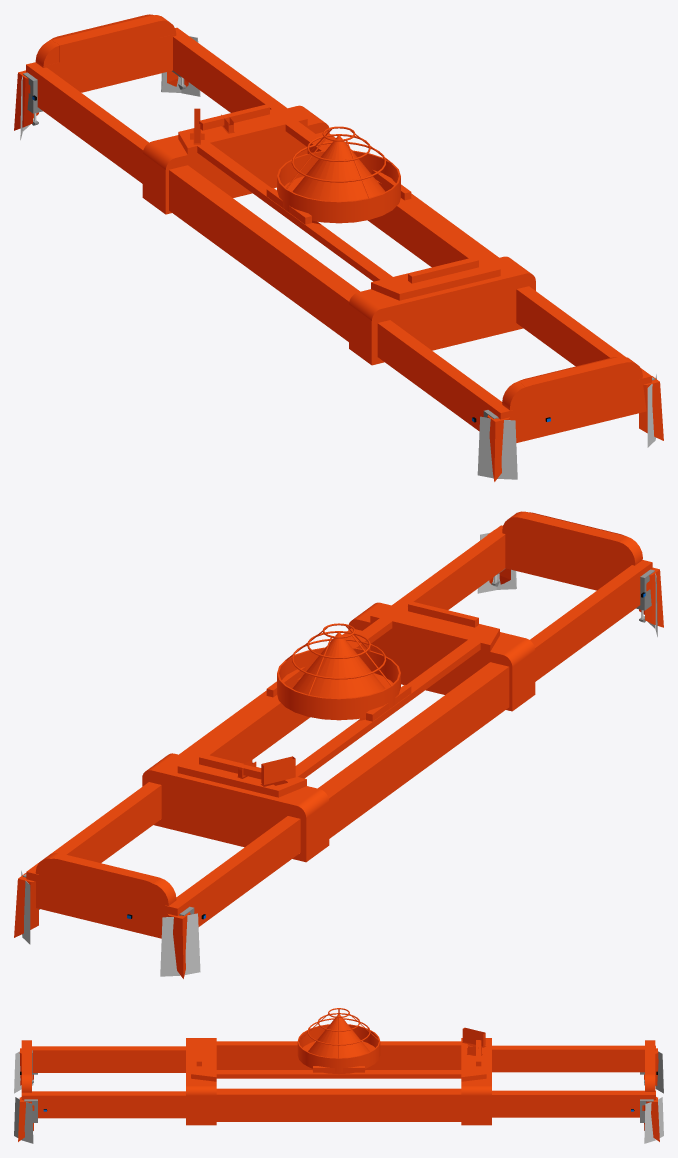
File: Spreader.fbx
3 views of the same model, one above another, from view 1: azimuth 30°, elevation 25°; view 2: azimuth 150°, elevation 25°; view 3: azimuth 270°, elevation 25° (orthographic). The views are drawn at different scales.
Visible parts, largest first — view 1: Spreader_Body, Assembly_1, Assembly_2, Assembly_1314_1, Assembly_4156, Assembly_4156__1__1, Cube, FlipperL1, Left_Micro, Assembly_4156__1_, FlipperR1, Cube__2_ (+2 smaller); view 2: Spreader_Body, Assembly_2, Assembly_1, Assembly_1314_1, FlipperR2, Cube__1__1, Assembly_4156__1_, Cube_1, Left_Micro, FlipperL2, FlipperR1, Assembly_4156 (+1 smaller); view 3: Spreader_Body, Assembly_2, Assembly_1, Assembly_1314_1, Assembly_4156__1_, Assembly_4156, Cube__2__1, FlipperR2, Cube__3_, FlipperL1, Backward_Miro, Cube (+1 smaller).
Boxes of the visible parts, x1,y1,x2,y2 form: Spreader_Body: (142,105,535,365); Assembly_1: (377,286,651,442); Assembly_2: (26,14,286,183); Assembly_1314_1: (277,126,400,223); Assembly_4156: (52,15,159,92); Assembly_4156__1__1: (45,34,174,91); Cube: (497,420,517,479); FlipperL1: (639,376,663,440); Left_Micro: (408,257,478,283); Assembly_4156__1_: (518,357,626,387); FlipperR1: (14,70,38,130); Cube__2_: (477,416,493,478); Spreader_Body: (142,602,535,862); Assembly_2: (26,782,300,938); Assembly_1: (392,512,652,681); Assembly_1314_1: (277,623,400,720); FlipperR2: (14,873,38,937); Cube__1__1: (160,917,180,976); Assembly_4156__1_: (519,512,626,541); Cube_1: (184,913,200,974); Left_Micro: (408,601,478,627); FlipperL2: (639,567,663,627); FlipperR1: (167,912,190,978); Assembly_4156: (53,853,159,883); Spreader_Body: (186,1027,491,1125); Assembly_2: (492,1045,655,1117); Assembly_1: (21,1046,185,1118); Assembly_1314_1: (297,1008,380,1072); Assembly_4156__1_: (21,1041,31,1073); Assembly_4156: (645,1041,655,1073); Cube__2__1: (22,1102,33,1143); FlipperR2: (644,1097,659,1141); Cube__3_: (644,1102,655,1143); FlipperL1: (18,1097,33,1141); Backward_Miro: (313,1066,364,1072); Cube: (14,1051,21,1093).
Size of the model in its own units: 269 by 218 by 1257.
